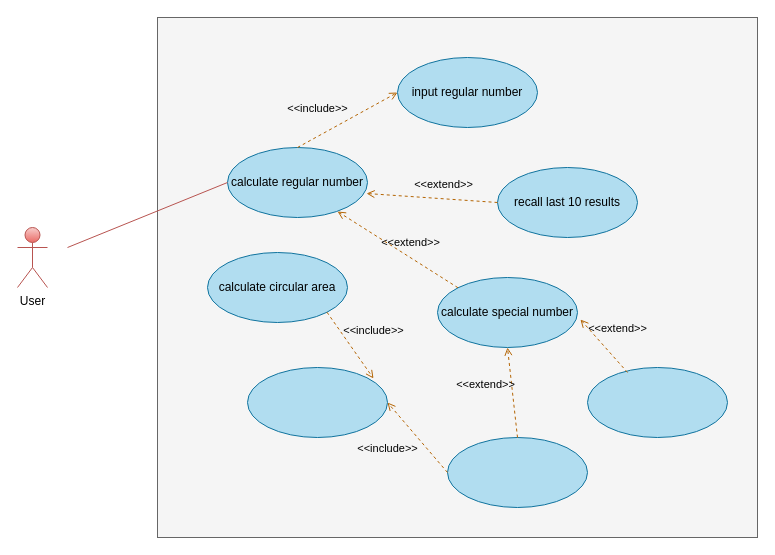
Some shapes in this 775 by 555 pixel diagram are drawn without their labels. Here are the shapes that lost their labels. From the top down, the centre of each, then its label:
At point (317, 402): "input radius value".
At point (657, 402): "get PI".
At point (517, 472): "calculate circular circumference".
